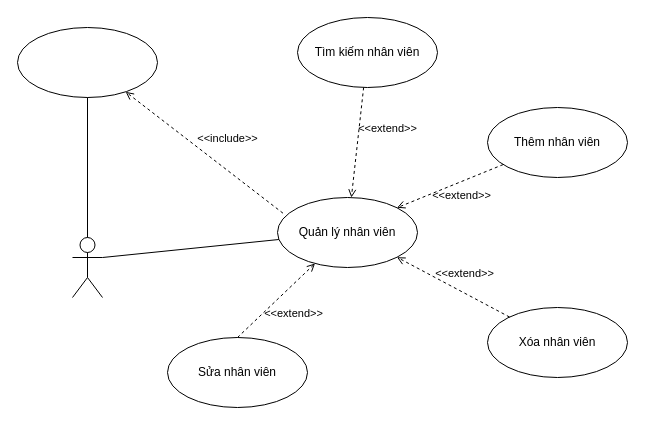
The diagram is 645 pixels wide and 425 high, and some of its shapes have lost their labels. The centre of each missing label's shape, as x and y in pixels:
"Actor" goes at point 87,267.
"Đăng nhập" goes at point 87,62.
